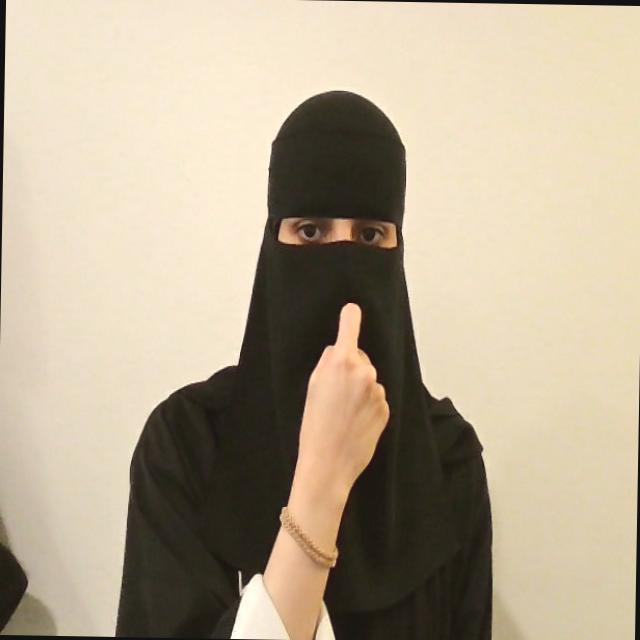medicine: (292, 298, 391, 502)
